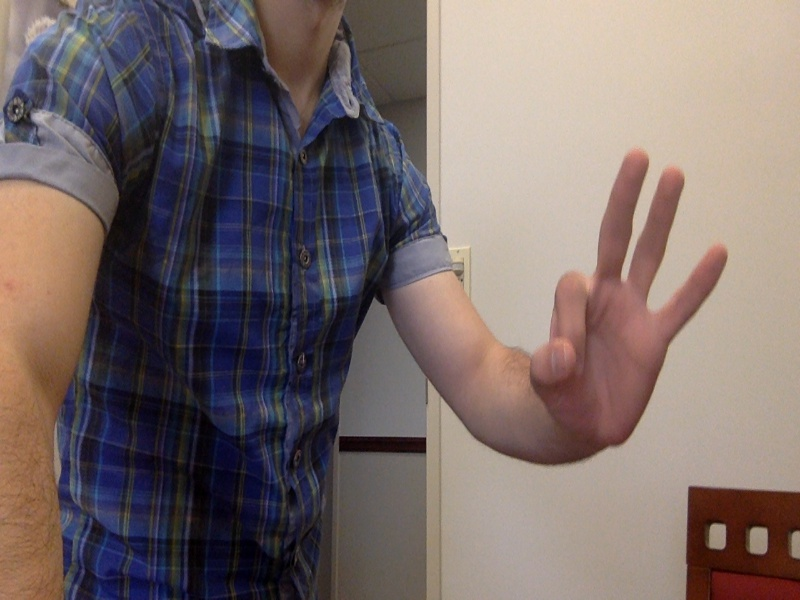3-hand: (531, 147, 729, 456)
